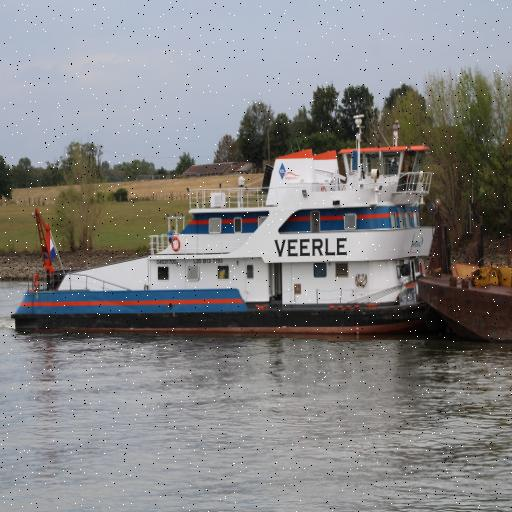tugboat: (9, 111, 445, 347)
